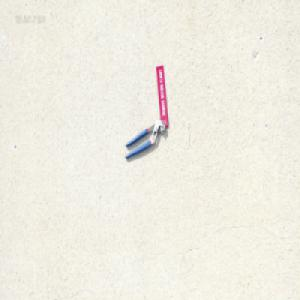Label: (155, 64, 169, 126)
Pliers: (124, 118, 166, 159)
